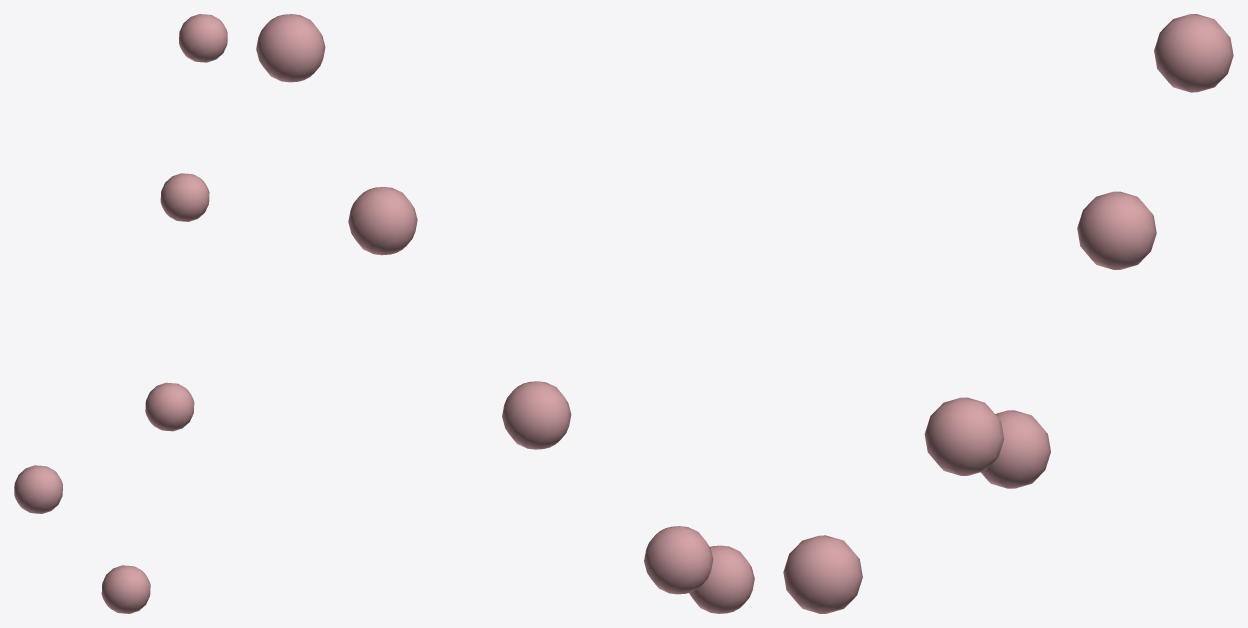
3 views of the same model, side by side, from view 1: azimuth 30°, elevation 25°; view 2: azimuth 150°, elevation 25°; view 3: azimuth 270°, elevation 25° (orthographic). The views are drawn at different scales.
Visible parts, largest first — view 1: ZA_4d6ee82c73084e1d; view 2: ZA_4d6ee82c73084e1d; view 3: ZA_4d6ee82c73084e1d.
Boxes of the visible parts, <box> form: ZA_4d6ee82c73084e1d: <box>14,14,227,613</box>; ZA_4d6ee82c73084e1d: <box>256,14,754,613</box>; ZA_4d6ee82c73084e1d: <box>783,14,1233,613</box>.
Bounding box in the file's own units: 0.0159 × 0.0266 × 0.0146.
